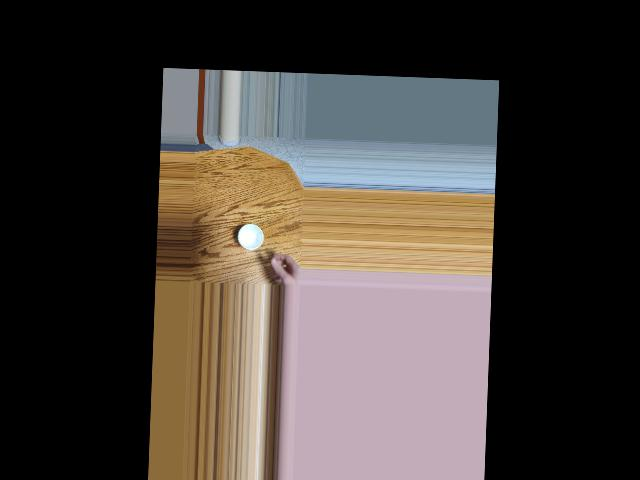cotage: (237, 220, 267, 254)
